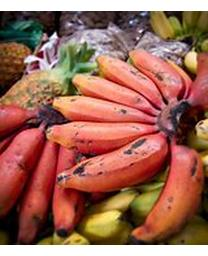banana: (1, 31, 206, 240)
